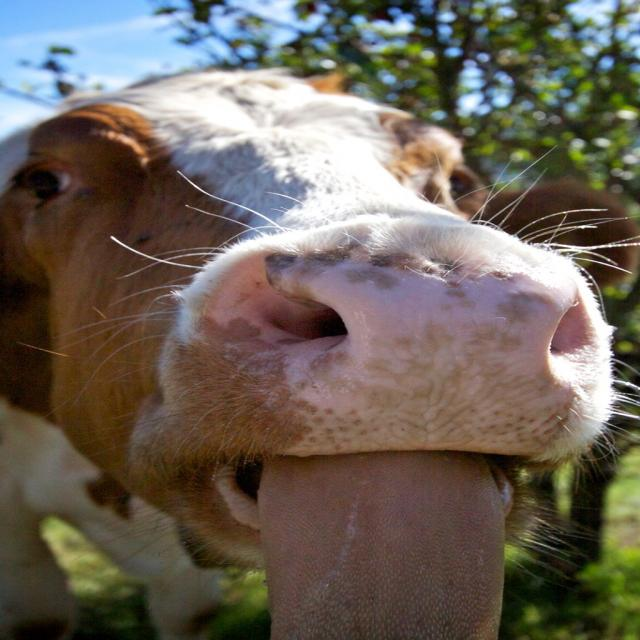Cattle: (0, 62, 639, 639)
